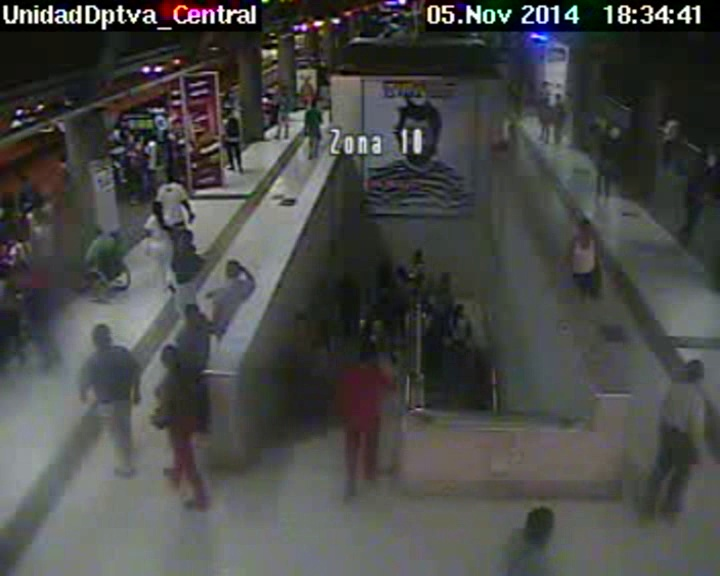person: (524, 505, 555, 539), (682, 357, 708, 384), (159, 344, 182, 369), (89, 324, 114, 345), (181, 302, 203, 325), (223, 255, 244, 278), (356, 345, 378, 366), (175, 227, 195, 247), (576, 218, 595, 238), (1, 191, 17, 211), (364, 303, 380, 321), (698, 145, 714, 163), (24, 252, 39, 269), (150, 200, 165, 214), (438, 272, 452, 287), (13, 227, 26, 243), (33, 209, 47, 223), (340, 267, 353, 282), (452, 303, 465, 317), (412, 247, 425, 260), (92, 225, 106, 237), (395, 264, 407, 278), (163, 172, 175, 185), (161, 129, 172, 140), (133, 133, 143, 145), (668, 109, 678, 120), (225, 107, 235, 117), (144, 133, 153, 143), (605, 125, 613, 136), (19, 174, 28, 183), (310, 100, 318, 109), (542, 96, 550, 105), (264, 91, 272, 100), (123, 128, 132, 136), (280, 85, 287, 95), (272, 81, 279, 89), (556, 93, 563, 100), (541, 81, 548, 87)
